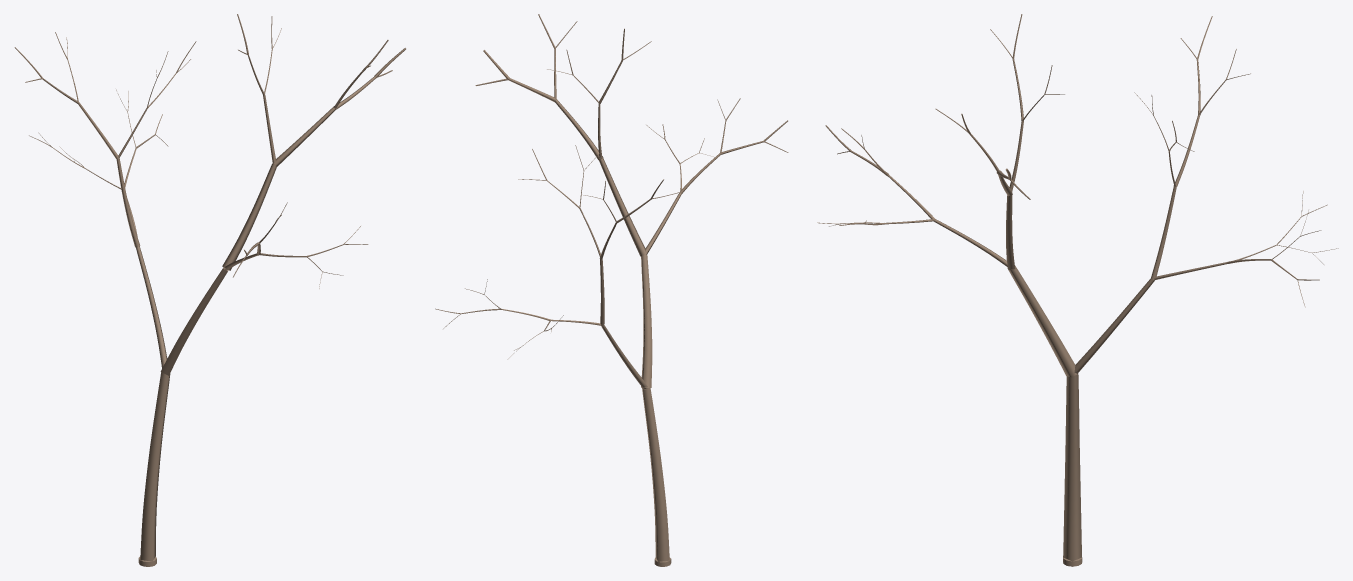
The model's file is dead_tree.glb.
3 renders of one model, left to right at view 1: azimuth 30°, elevation 25°; view 2: azimuth 150°, elevation 25°; view 3: azimuth 270°, elevation 25°, orthographic. The views are drawn at different scales.
Parts seen in each view (by area): view 1: seg_d5, seg_d4 (×2), seg_d3; view 2: seg_d5, seg_d4, seg_d3; view 3: seg_d5, seg_d4 (×2).
Part boxes in pixels (left/top/right/bottom): seg_d5: left=140, top=372, right=170, bottom=566; seg_d4 (×2): left=135, top=246, right=228, bottom=375; seg_d3: left=222, top=163, right=276, bottom=270; seg_d5: left=642, top=387, right=669, bottom=566; seg_d4: left=641, top=254, right=652, bottom=387; seg_d3: left=599, top=158, right=647, bottom=256; seg_d5: left=1063, top=373, right=1082, bottom=566; seg_d4 (×2): left=1007, top=265, right=1154, bottom=377.
Size of the model in its own units: 7.52 by 13.25 by 10.76.
